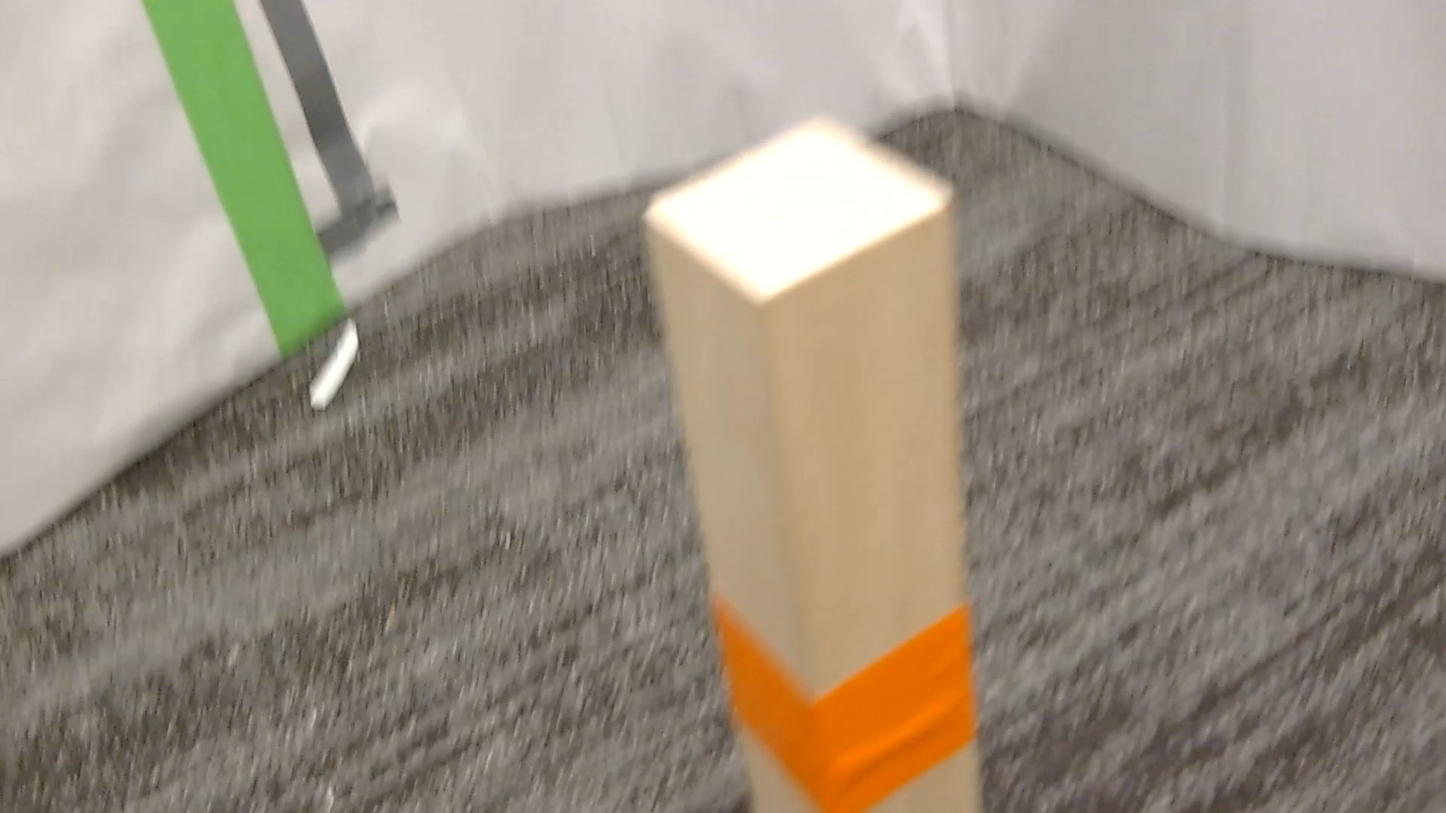Wooden Block: (645, 119, 980, 812)
